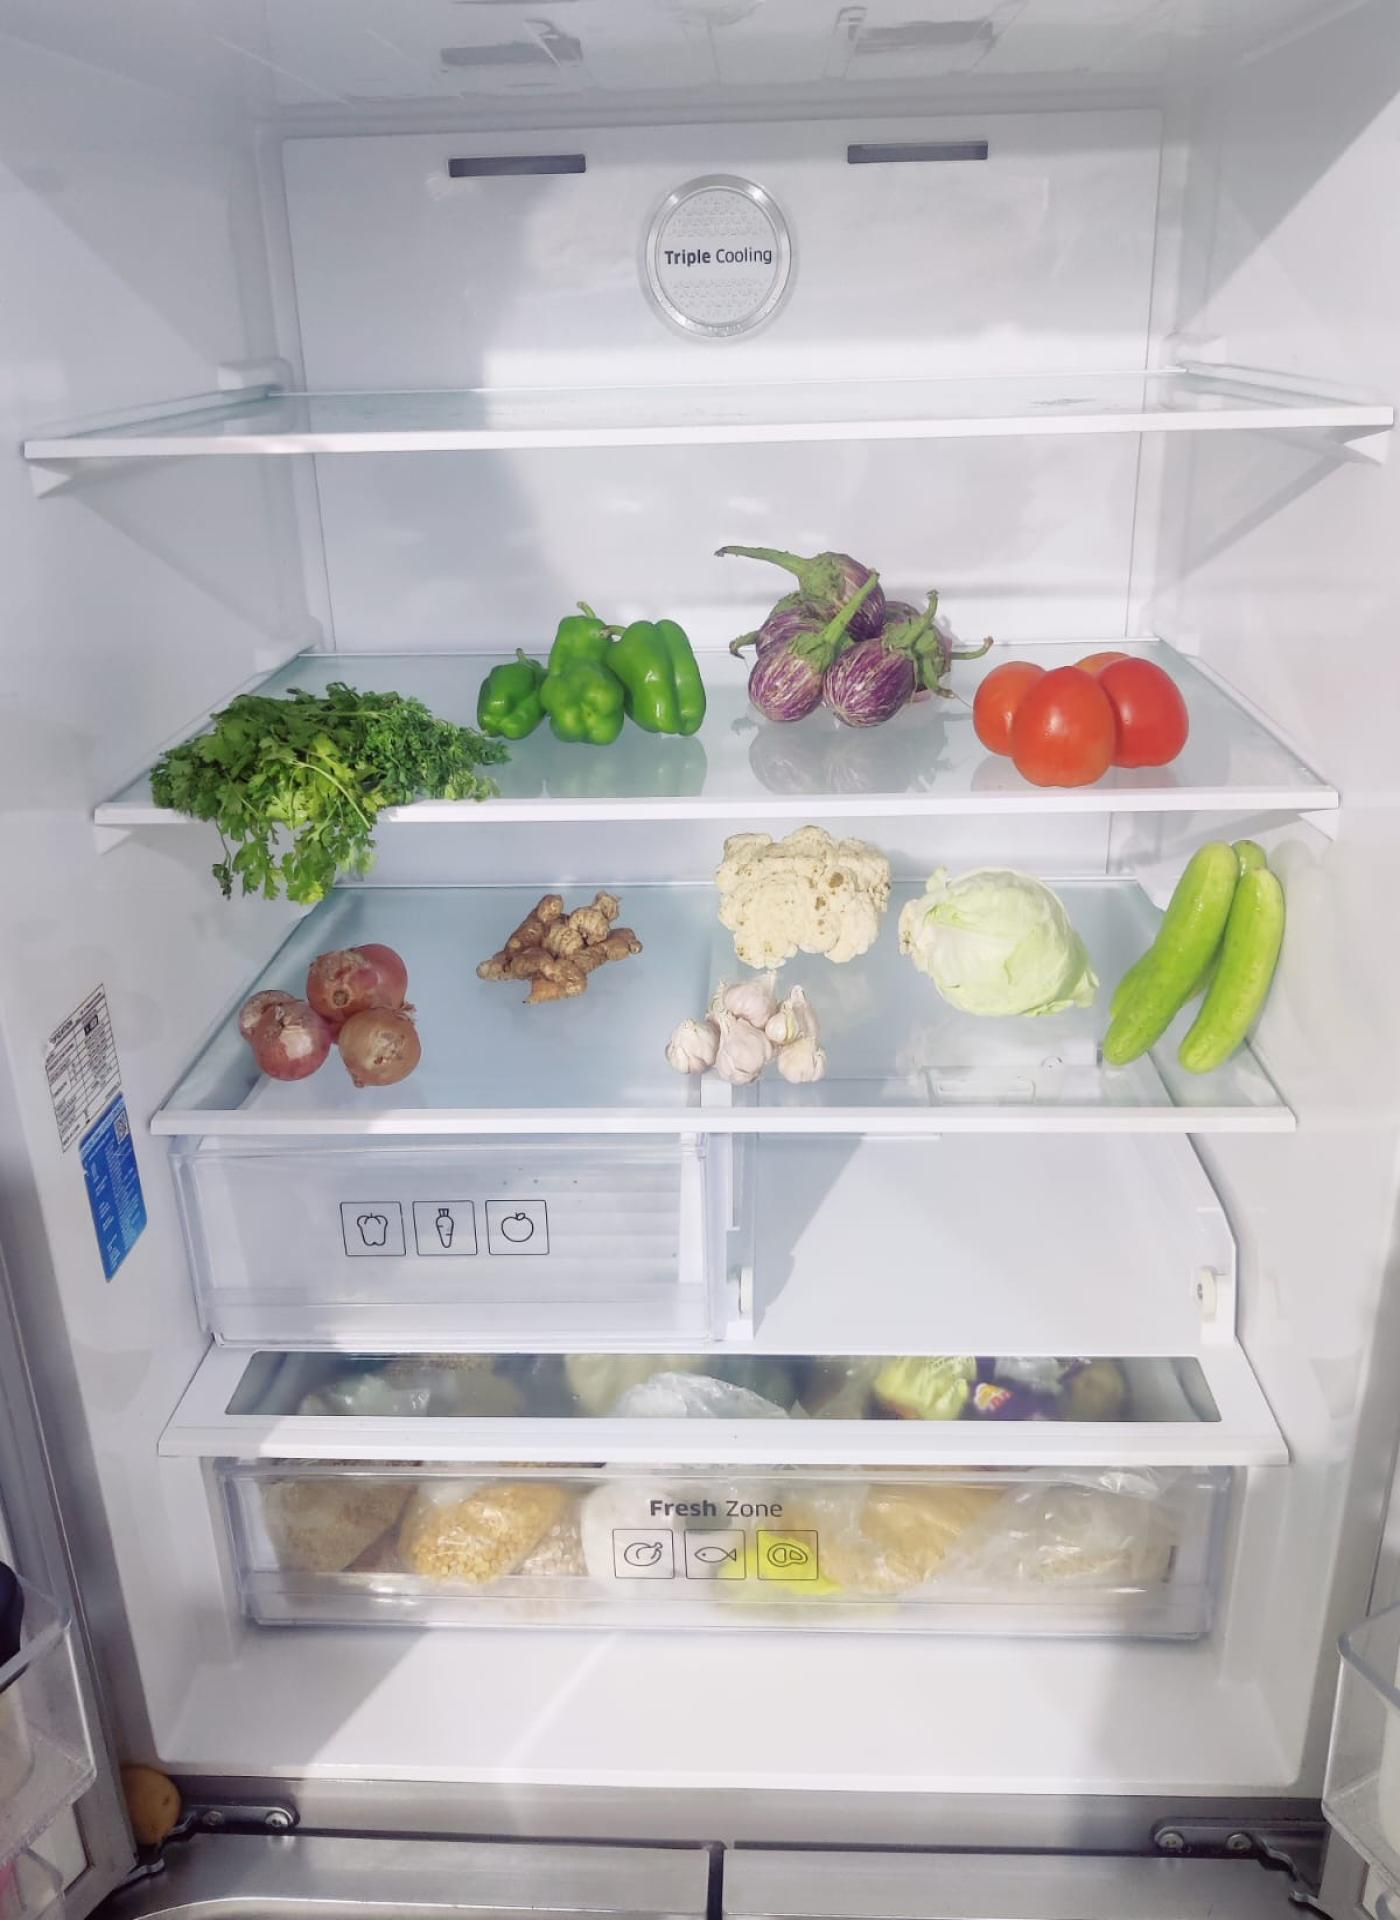brinjal: (732, 541, 933, 717)
cabbage: (905, 872, 1102, 1026)
capsicum: (474, 614, 704, 747)
cauliflower: (713, 818, 892, 963)
coriander: (143, 680, 486, 847)
cucumber: (1106, 829, 1288, 1079)
garlic: (672, 978, 835, 1090)
ginger: (480, 888, 643, 1003)
onion: (242, 942, 422, 1088)
tomato: (978, 647, 1196, 784)
